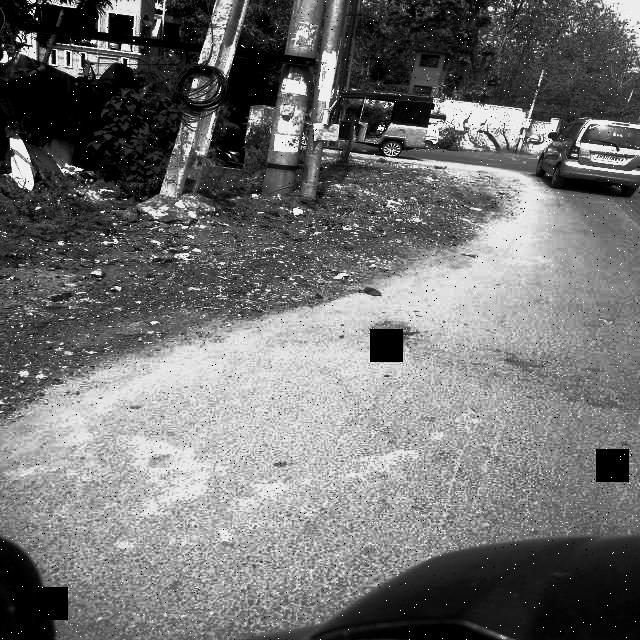Auto-Rickshaw: (317, 86, 427, 156)
